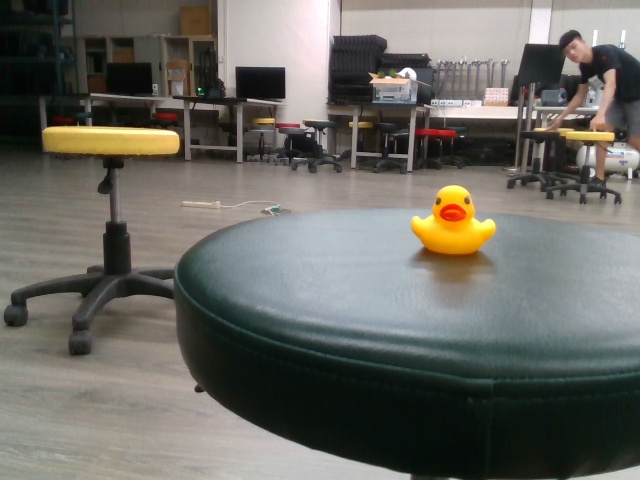duck: (408, 180, 499, 264)
